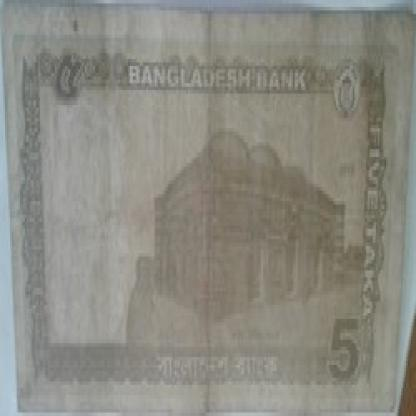Five Taka: (45, 38, 93, 125), (324, 308, 363, 392)
